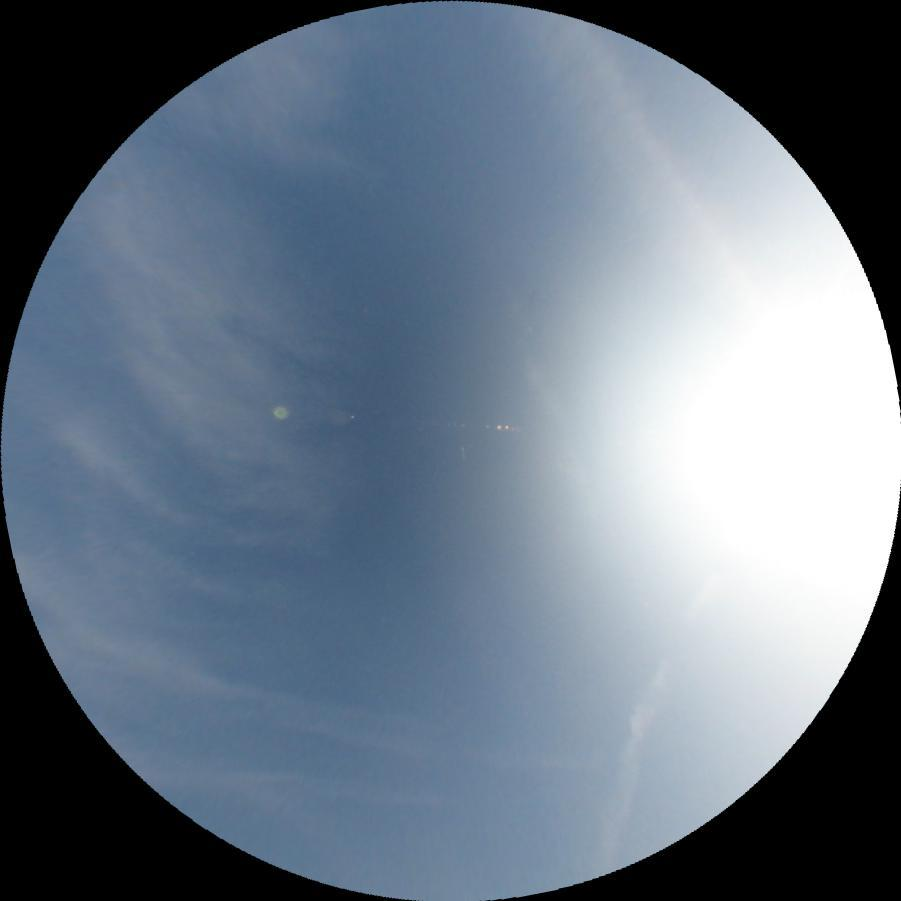contrail veryold: (562, 570, 728, 884), (184, 674, 615, 780)
sun: (661, 310, 901, 581)
